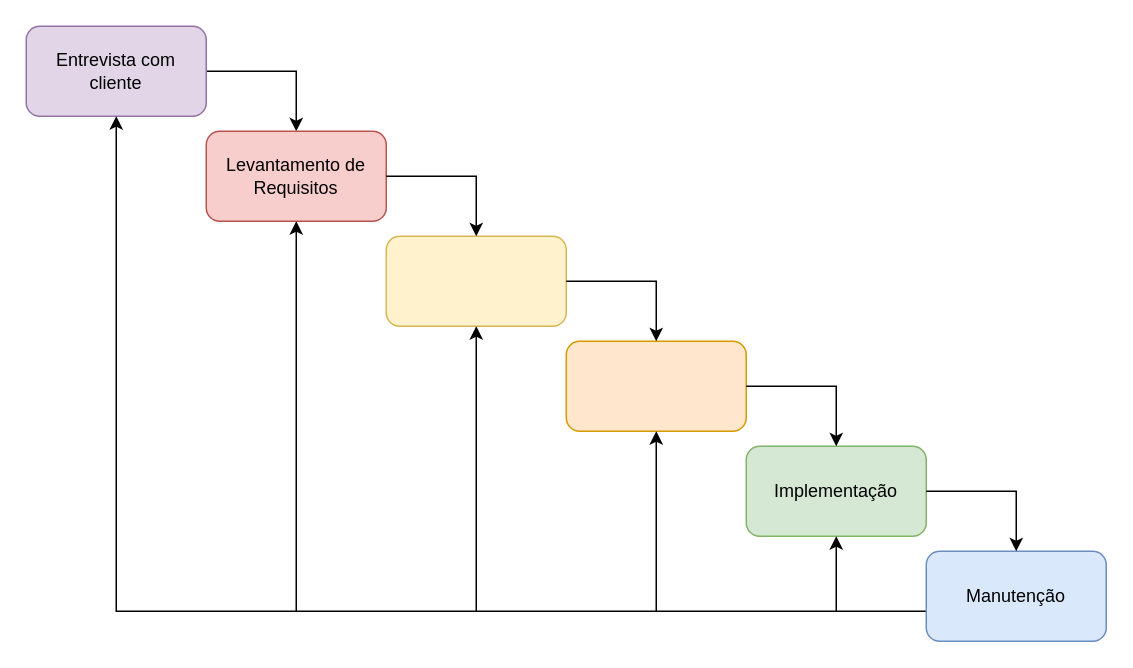
This 1133x668 diagram has some shape labels left out. Each missing label, with the centre of its shape:
"Codificação e testes" goes at [655,385].
"Elaboração do projeto" goes at [475,280].
